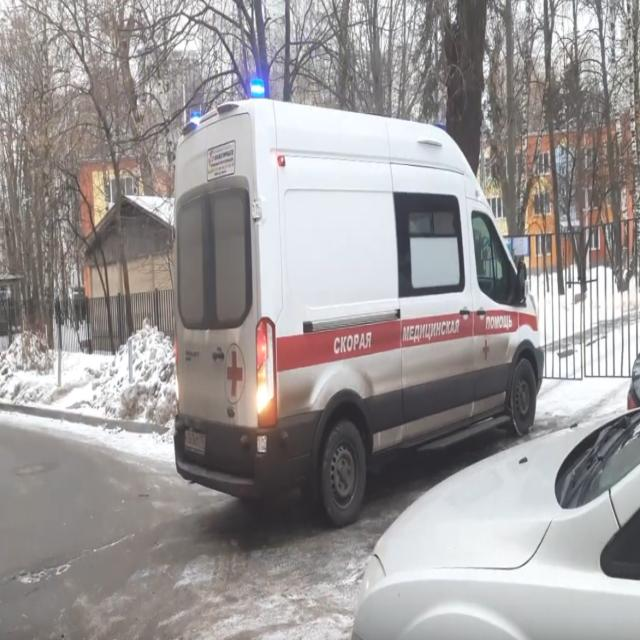ambulance: (173, 81, 544, 528)
